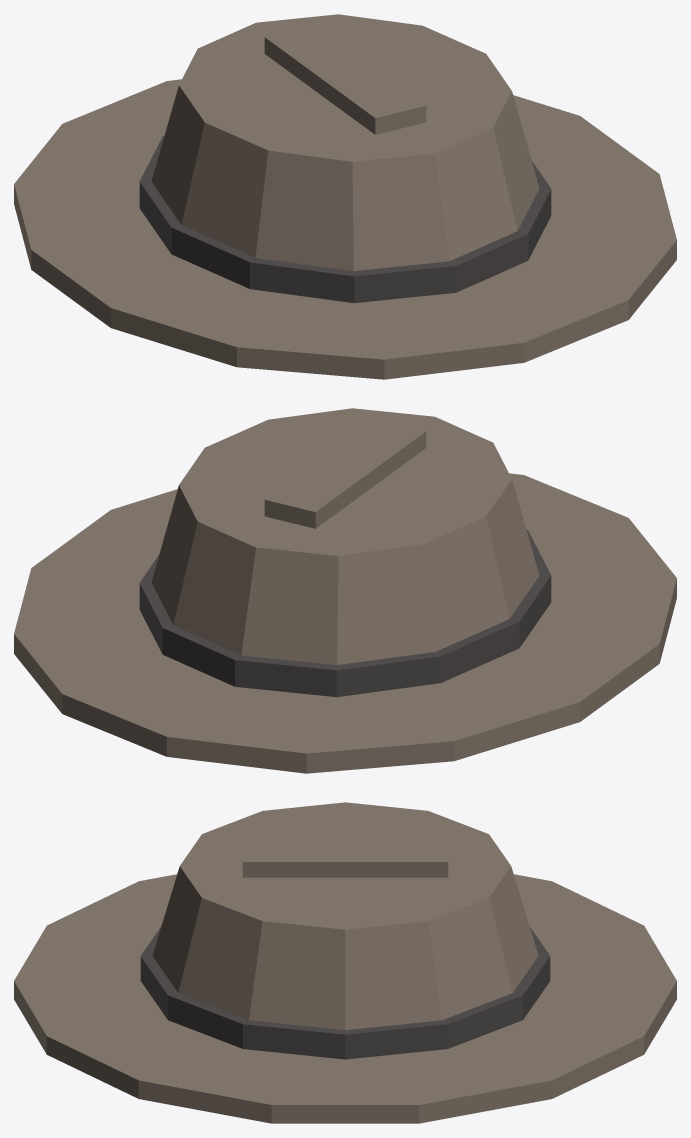
File: hat_fedora.glb
The picture shows the model from 3 angles, top to bottom: view 1: azimuth 30°, elevation 25°; view 2: azimuth 150°, elevation 25°; view 3: azimuth 270°, elevation 25°; orthographic projection. The views are drawn at different scales.
Visible parts, largest first — view 1: Head; view 2: Head; view 3: Head.
Boxes of the visible parts, bbox=[...] form: Head: bbox=[14, 14, 676, 379]; Head: bbox=[14, 408, 676, 773]; Head: bbox=[14, 802, 676, 1123].
Size of the model in its own units: 0.8579 by 0.24 by 0.968.
